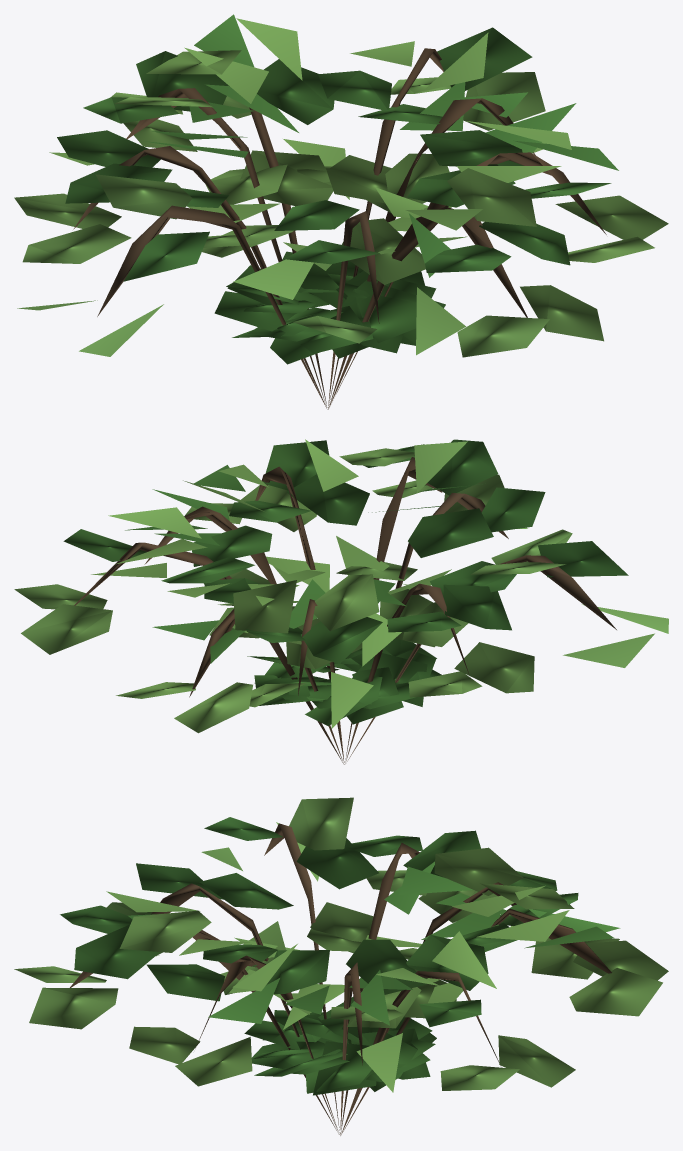
The model's file is grotto_fern_lod2.glb.
3 views of the same model, one above another, from view 1: azimuth 30°, elevation 25°; view 2: azimuth 150°, elevation 25°; view 3: azimuth 270°, elevation 25° (orthographic). The views are drawn at different scales.
Parts seen in each view (by area): view 1: grotto_fern.001; view 2: grotto_fern.001; view 3: grotto_fern.001.
Part boxes in pixels (x1,y1,x2,y2): grotto_fern.001: [14, 14, 668, 409]; grotto_fern.001: [14, 439, 668, 764]; grotto_fern.001: [14, 797, 668, 1135].
Size of the model in its own units: 5.35 by 2.35 by 5.67.
